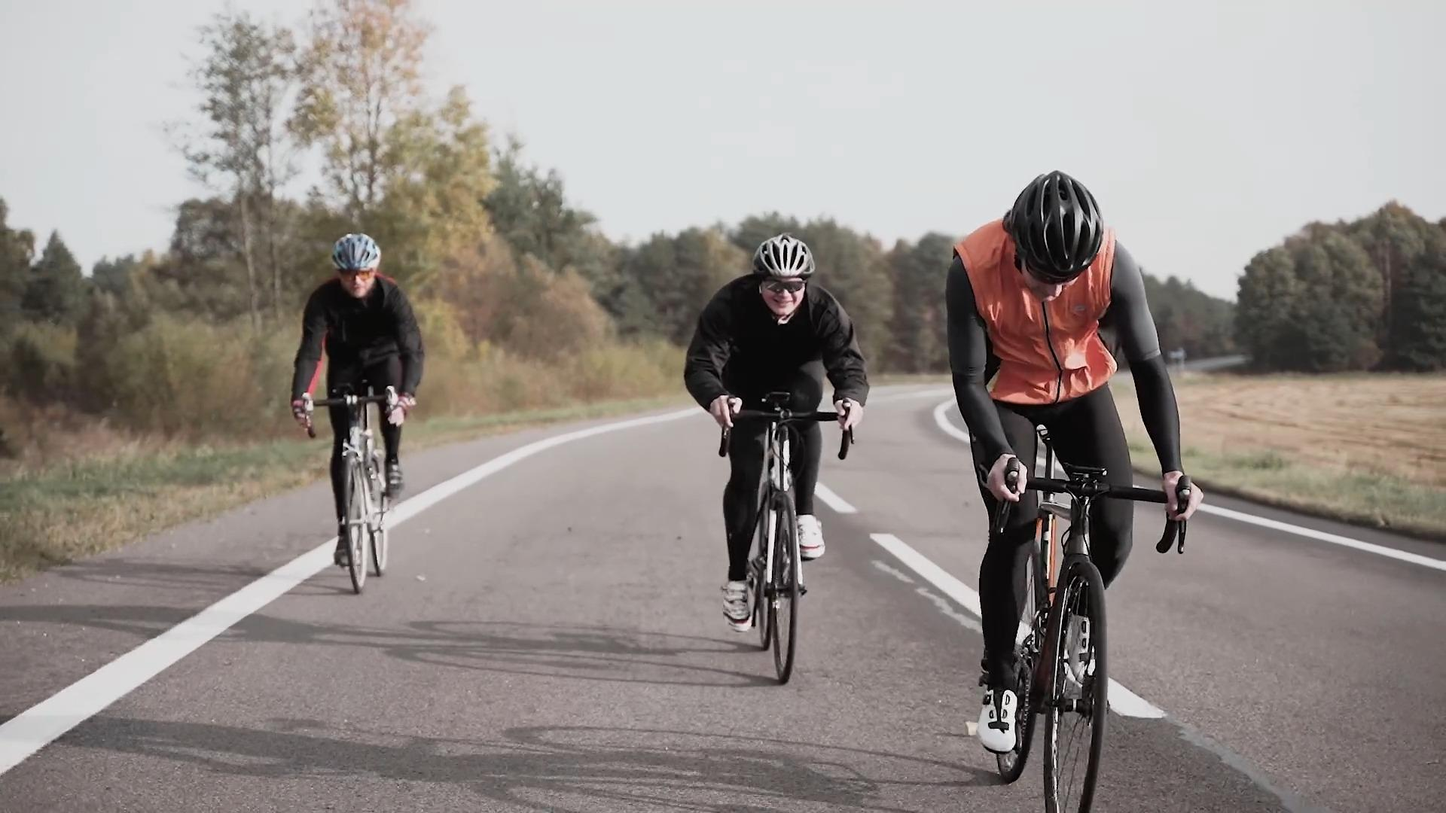bicyclist: (948, 169, 1207, 813), (683, 231, 871, 686), (289, 233, 426, 597)
helmet: (1003, 169, 1106, 304), (751, 232, 816, 324), (330, 233, 382, 299)
